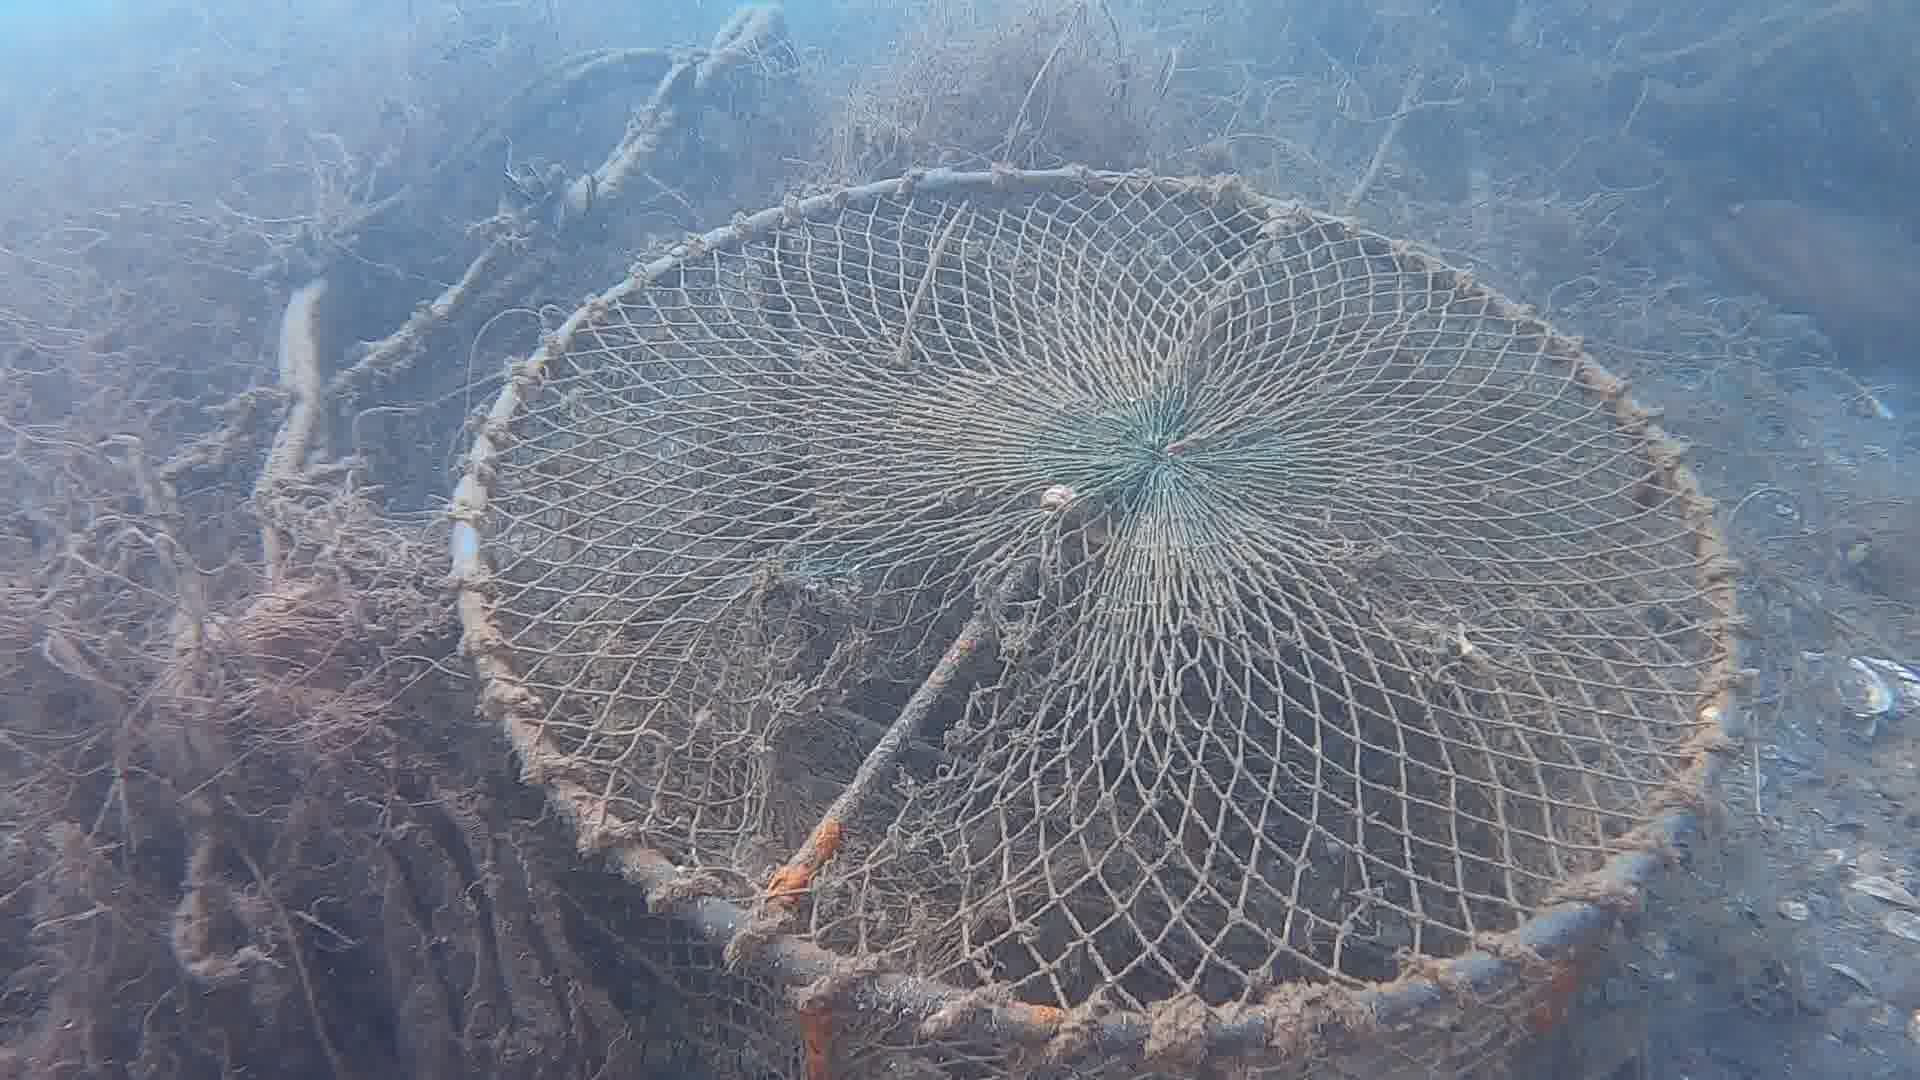circular fish trap: (443, 162, 1750, 1080)
